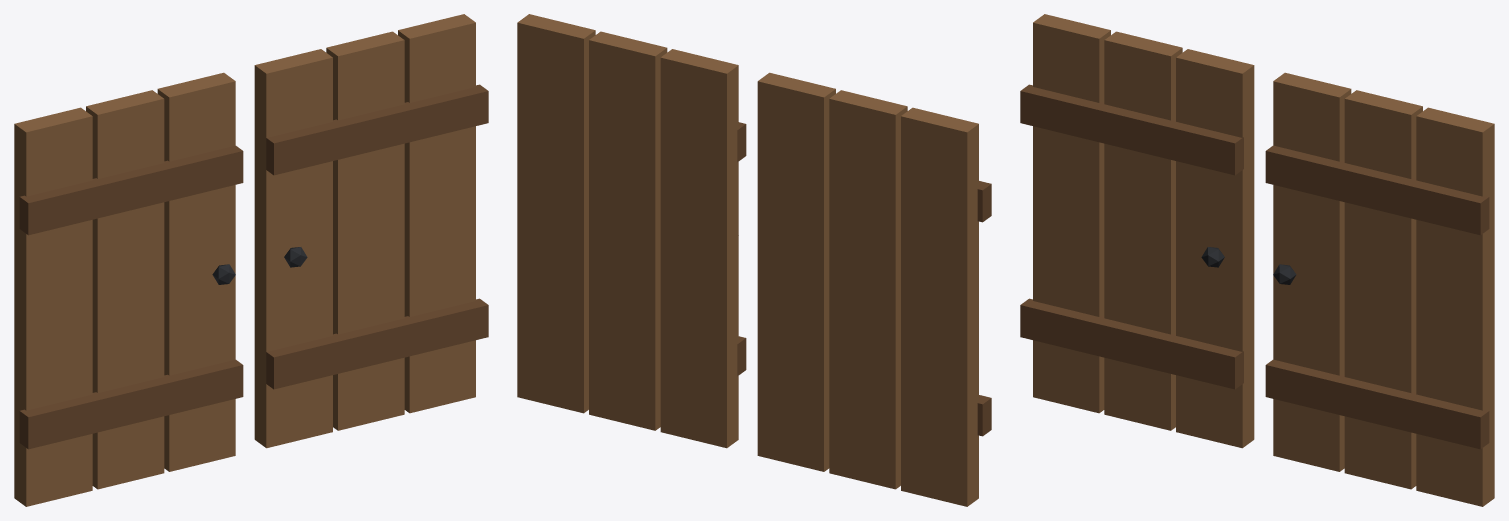
The model's file is window_shutters.glb.
The picture shows the model from 3 angles, left to right: view 1: azimuth 30°, elevation 25°; view 2: azimuth 150°, elevation 25°; view 3: azimuth 330°, elevation 25°; orthographic projection.
Parts seen in each view (by area): view 1: shutter_R, shutter_L; view 2: shutter_L, shutter_R; view 3: shutter_L, shutter_R.
Part boxes in pixels (x1=…): shutter_R: x1=254, y1=14, x2=488, y2=448; shutter_L: x1=14, y1=72, x2=243, y2=506; shutter_L: x1=757, y1=72, x2=991, y2=506; shutter_R: x1=517, y1=14, x2=746, y2=448; shutter_L: x1=1020, y1=14, x2=1254, y2=448; shutter_R: x1=1265, y1=72, x2=1494, y2=506.
Bounding box in the file's own units: 0.9 × 0.7 × 0.087.
